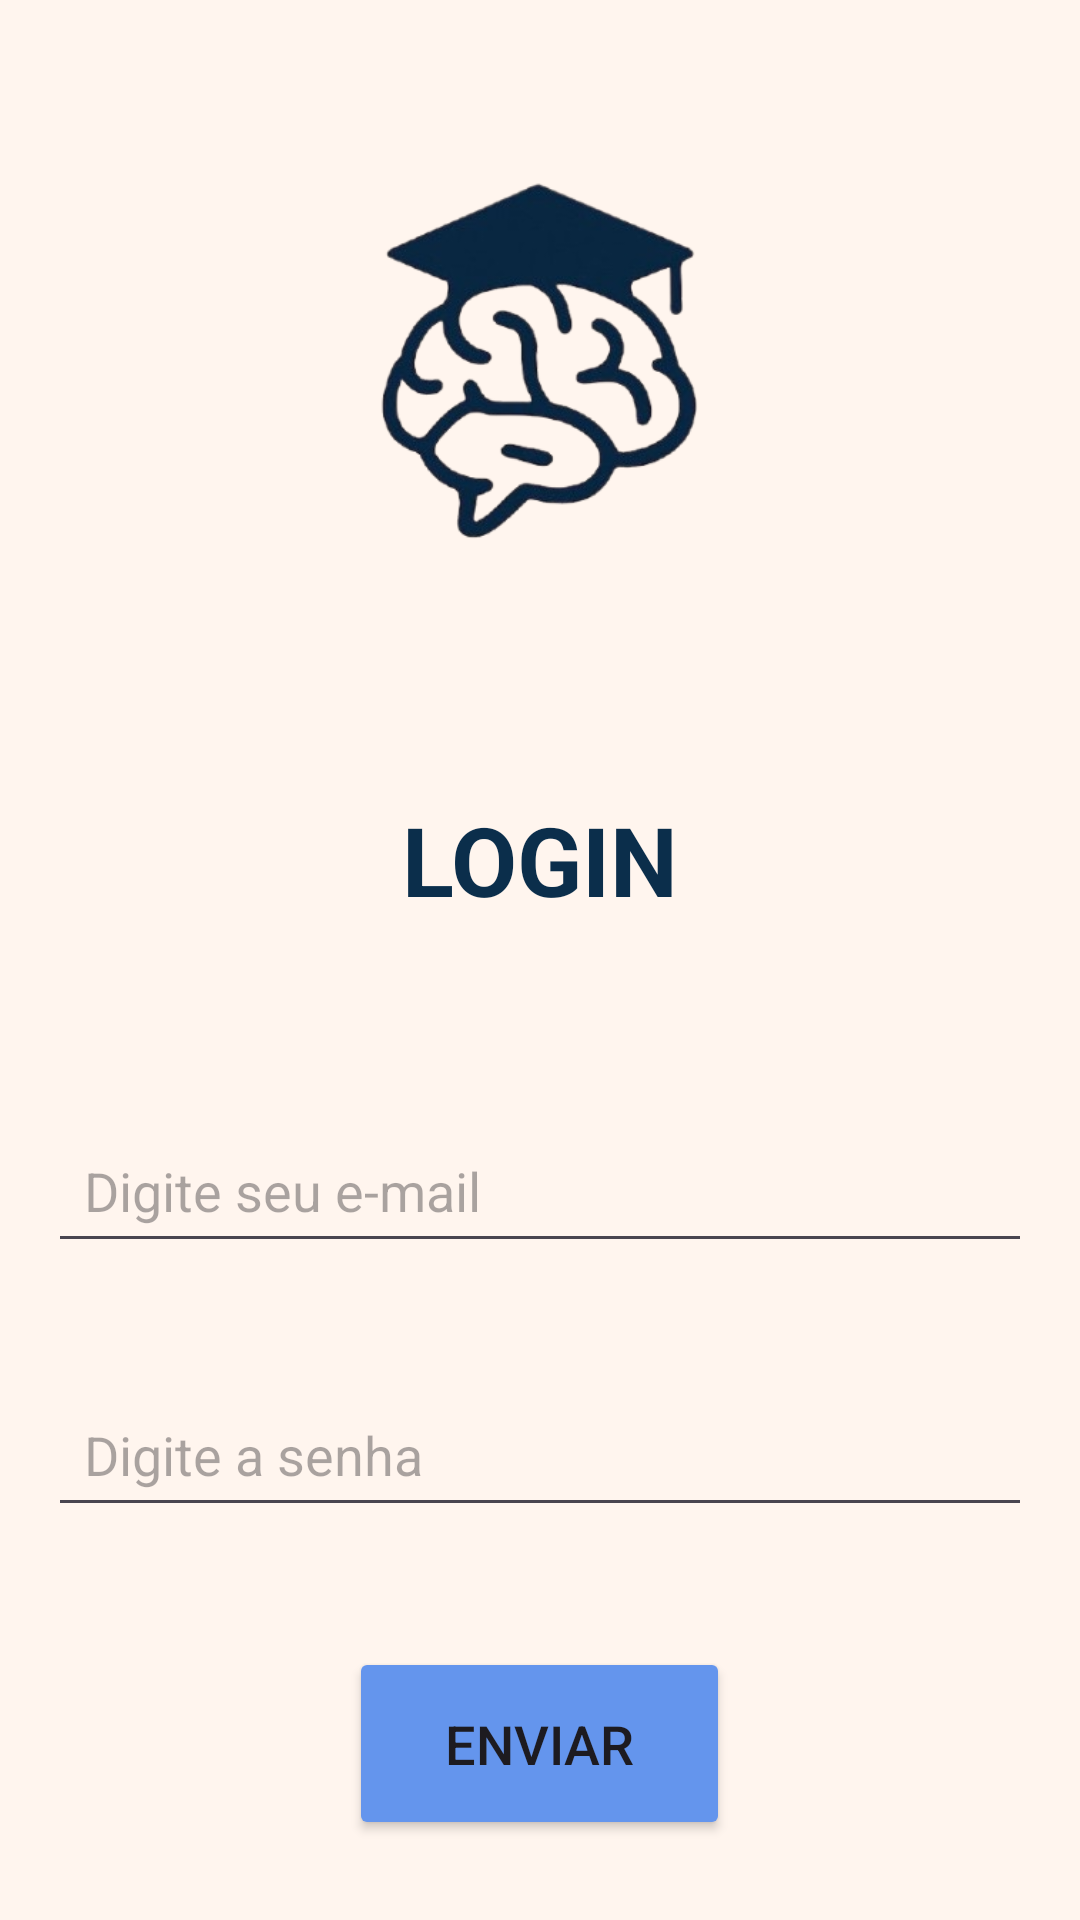

Icons on this 1080 x 1920 Android screen, each with the point to tap as (x=x, y=y):
brain: (x=539, y=360)
